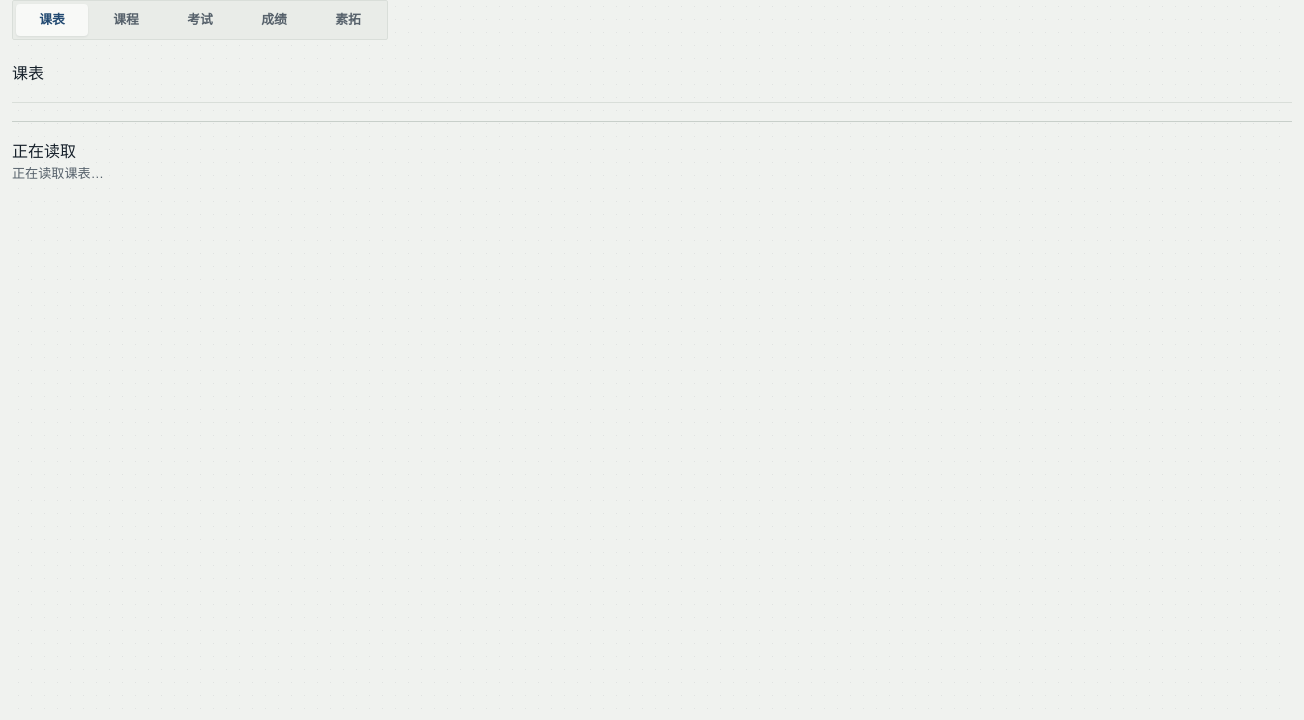
Test: practice availability › explains internal capability errors without exposing engine wording
Click the button "素拓" at [348, 20], box [312,4,384,36]
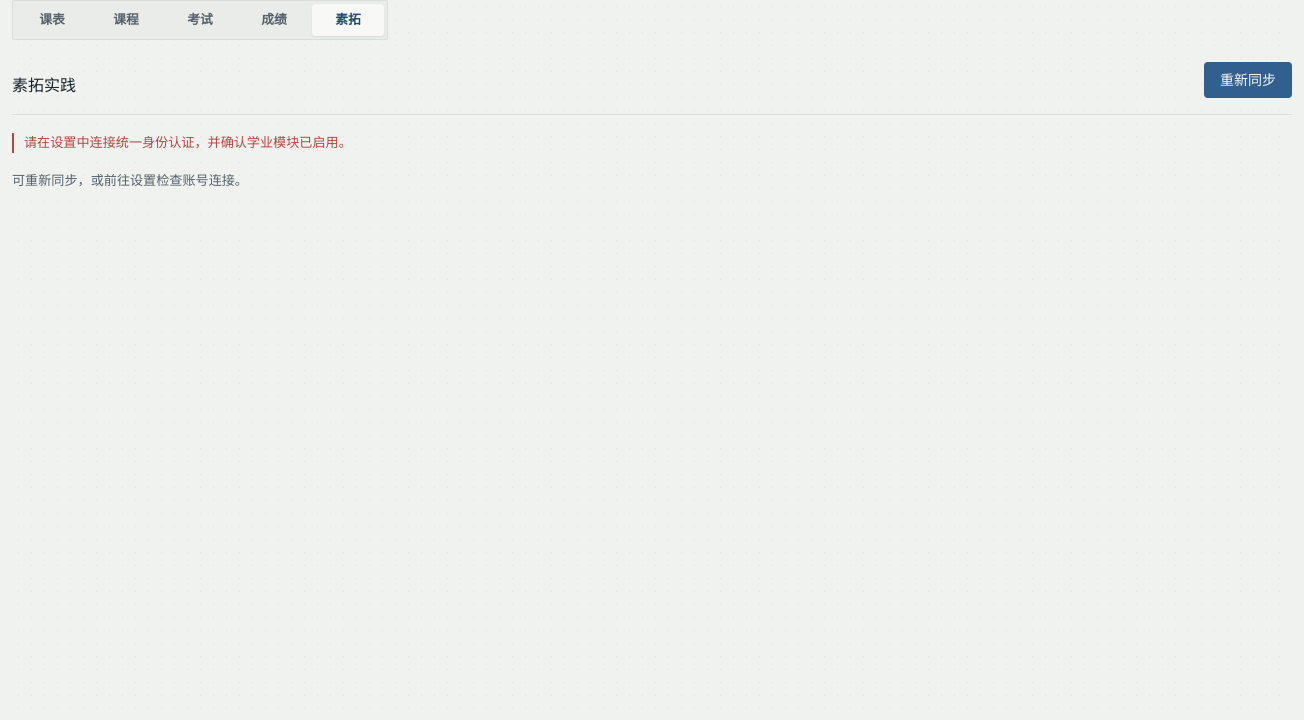
Now the text "请在设置中连接统一身份认证，并确认学业模块已启用。" is shown, box [12,133,1292,153]
